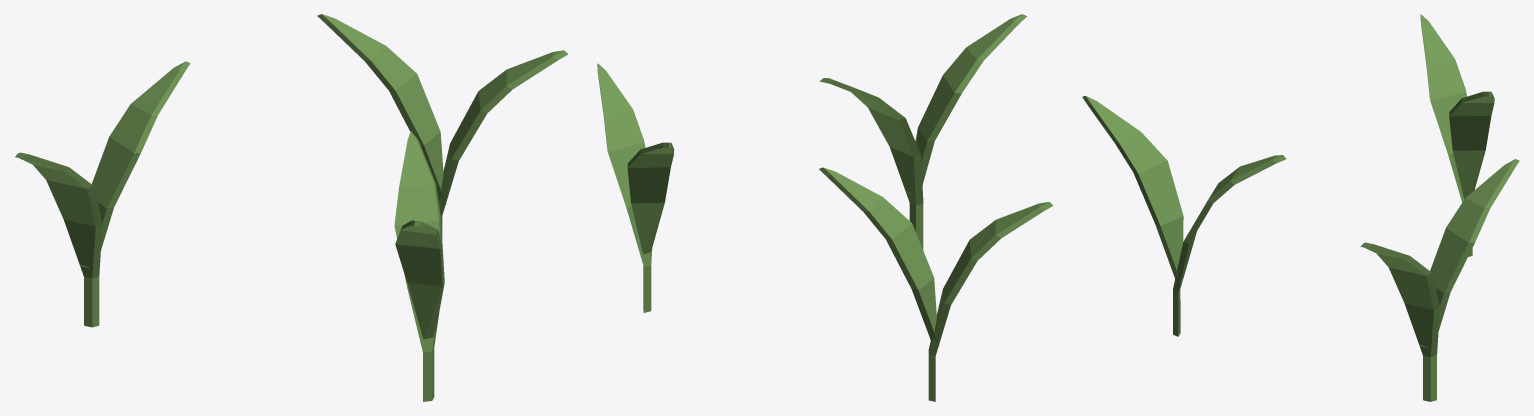
The model's file is crop_carrot.s1.glb.
The picture shows the model from 3 angles, left to right: view 1: azimuth 30°, elevation 25°; view 2: azimuth 150°, elevation 25°; view 3: azimuth 270°, elevation 25°; orthographic projection. The views are drawn at different scales.
Size of the model in its own units: 0.6475 by 0.2738 by 0.5167.
